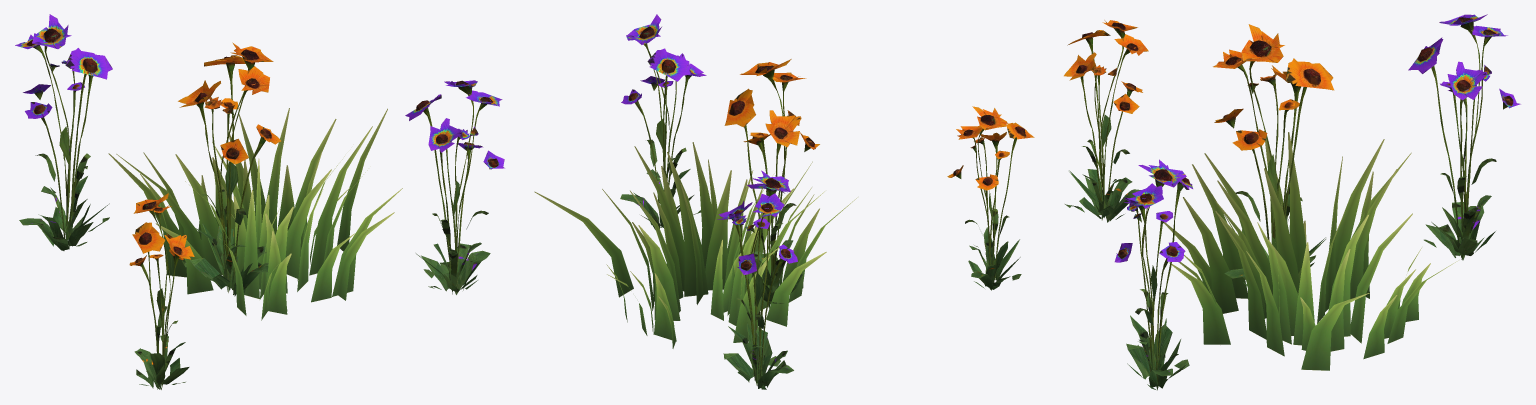
The model's file is FlowerPatch.glb.
3 renders of one model, left to right at view 1: azimuth 30°, elevation 25°; view 2: azimuth 150°, elevation 25°; view 3: azimuth 270°, elevation 25°, orthographic. The views are drawn at different scales.
Parts seen in each view (by area): view 1: GrassTuft, object 1, object 4, object 2, object 3; view 2: GrassTuft, object 4, object 1, object 3, object 2; view 3: GrassTuft, object 4, object 1, object 2, object 3.
Part boxes in pixels (left/top/right/bottom): GrassTuft: left=108, top=108, right=402, bottom=320; object 1: left=178, top=42, right=281, bottom=296; object 4: left=15, top=14, right=112, bottom=250; object 2: left=405, top=80, right=504, bottom=294; object 3: left=129, top=193, right=194, bottom=389; GrassTuft: left=534, top=142, right=857, bottom=348; object 4: left=717, top=170, right=797, bottom=389; object 1: left=724, top=59, right=819, bottom=308; object 3: left=947, top=106, right=1034, bottom=290; object 2: left=620, top=14, right=706, bottom=229; GrassTuft: left=1164, top=131, right=1458, bottom=370; object 4: left=1408, top=14, right=1520, bottom=260; object 1: left=1213, top=24, right=1334, bottom=286; object 2: left=1114, top=159, right=1192, bottom=390; object 3: left=1064, top=20, right=1148, bottom=222.
Bounding box in the file's own units: 0.8047 × 0.5 × 0.7609.
3 materials, 3 textured.
